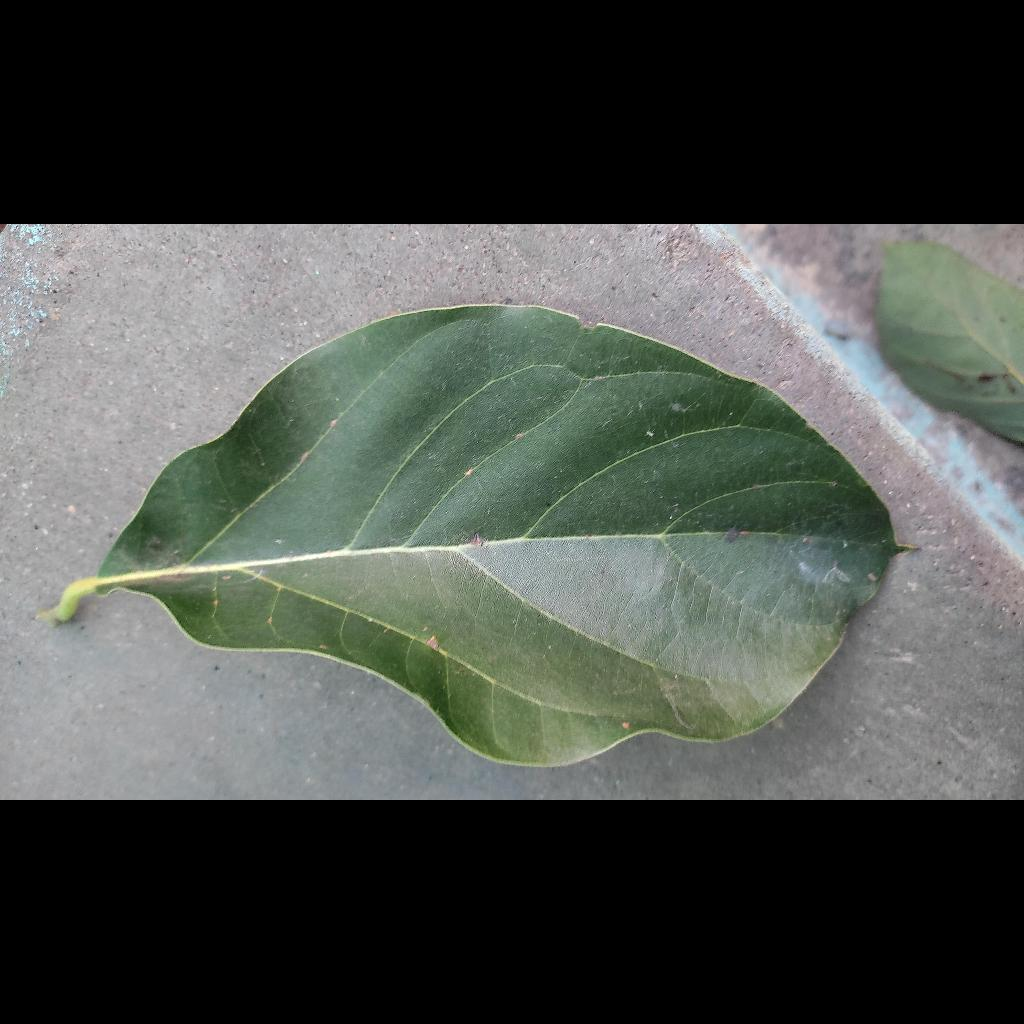hoja_sana: (146, 289, 960, 778)
